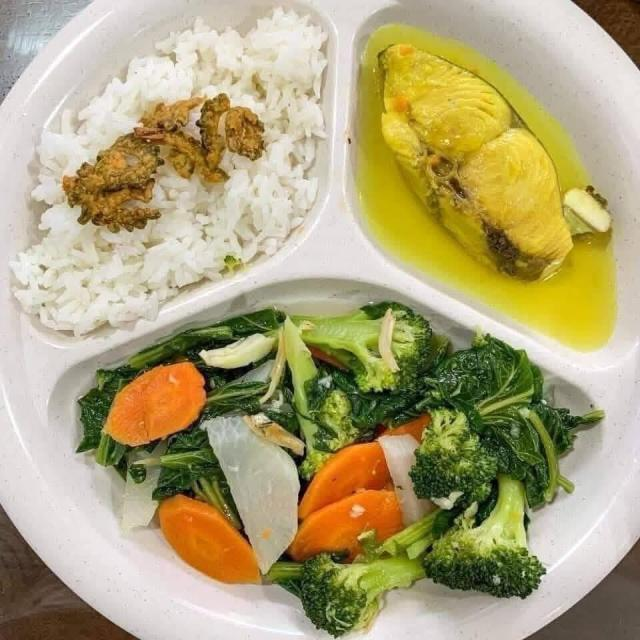Fish: (381, 42, 613, 285)
Plate: (141, 0, 639, 639)
Rice: (10, 6, 330, 334)
Vegetables: (77, 303, 601, 635)
